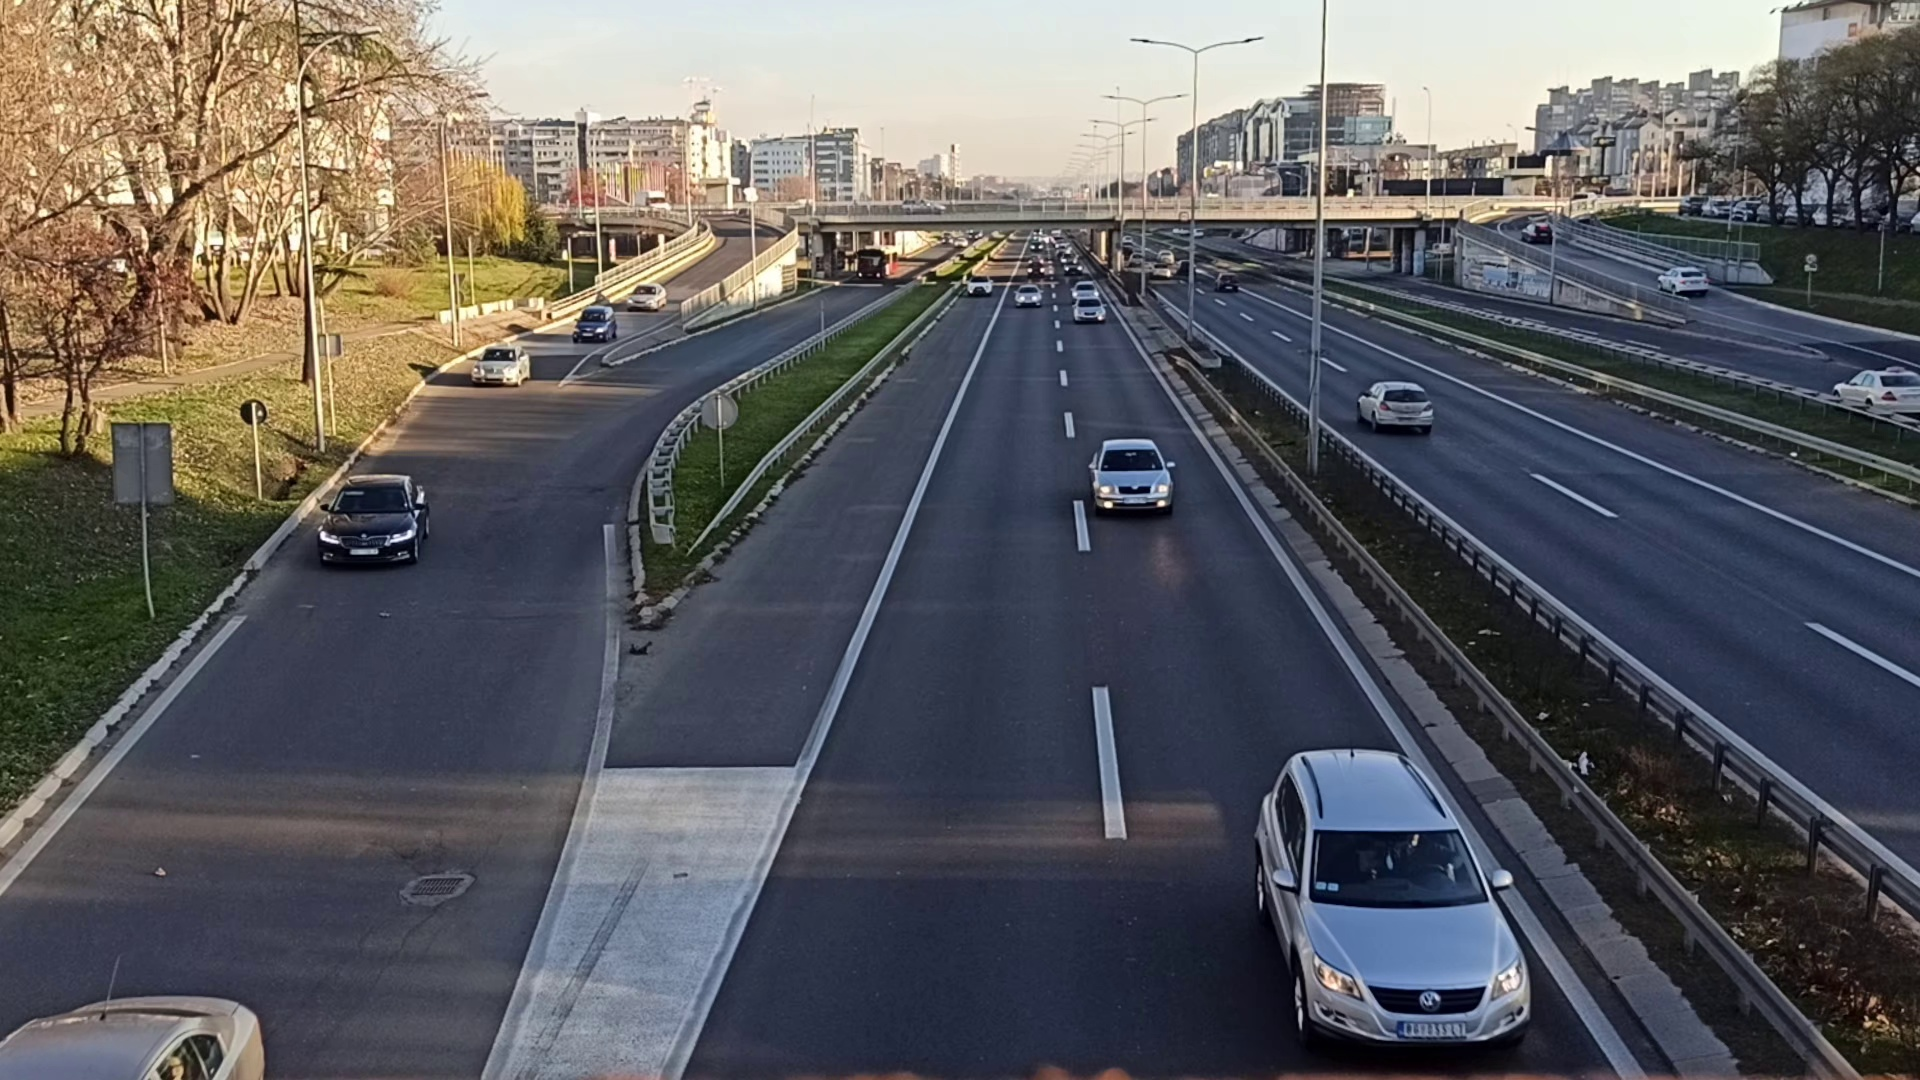car: (1244, 746, 1527, 1054), (319, 473, 429, 566), (1088, 436, 1176, 514), (1358, 382, 1432, 433), (469, 345, 531, 384), (575, 305, 615, 339), (626, 284, 666, 309), (1073, 299, 1105, 320), (1015, 284, 1040, 309)
